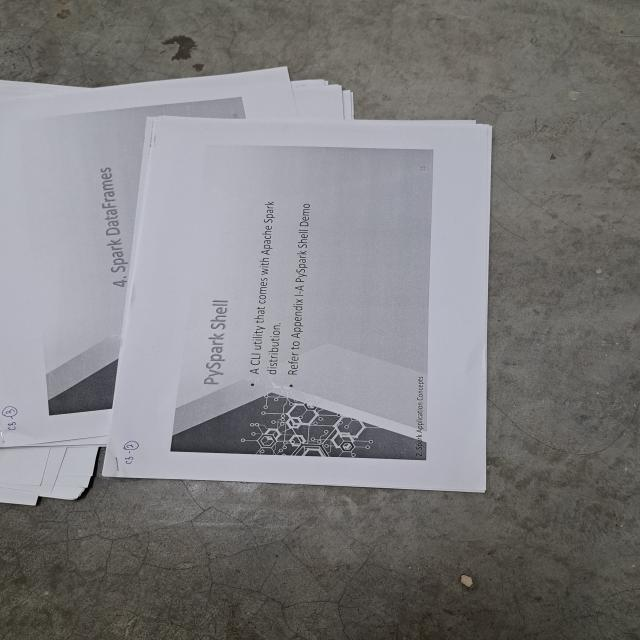paper: (0, 67, 490, 506)
